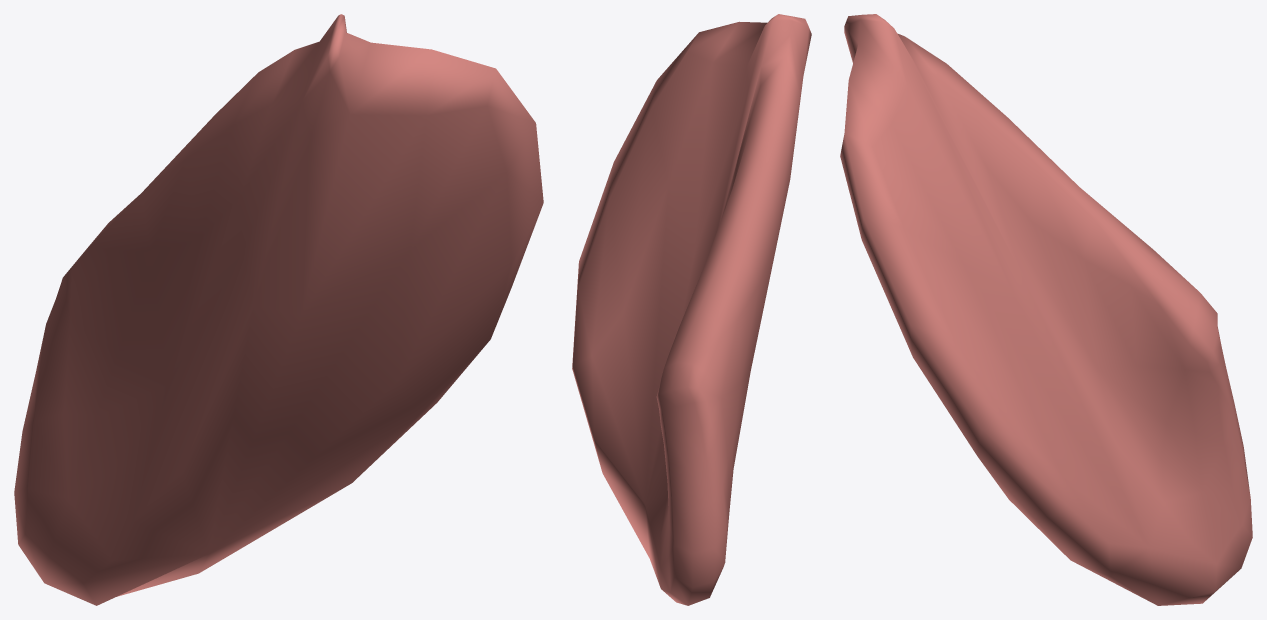
3 renders of one model, left to right at view 1: azimuth 30°, elevation 25°; view 2: azimuth 150°, elevation 25°; view 3: azimuth 270°, elevation 25°, orthographic. The views are drawn at different scales.
Visible parts, largest first — view 1: ZA_492d3fb602e479fe; view 2: ZA_492d3fb602e479fe; view 3: ZA_492d3fb602e479fe.
Part boxes in pixels (<box>): ZA_492d3fb602e479fe: <box>14,14,543,605</box>; ZA_492d3fb602e479fe: <box>572,14,811,605</box>; ZA_492d3fb602e479fe: <box>840,14,1252,605</box>.
Size of the model in its own units: 0.00223 by 0.00436 by 0.00269.
